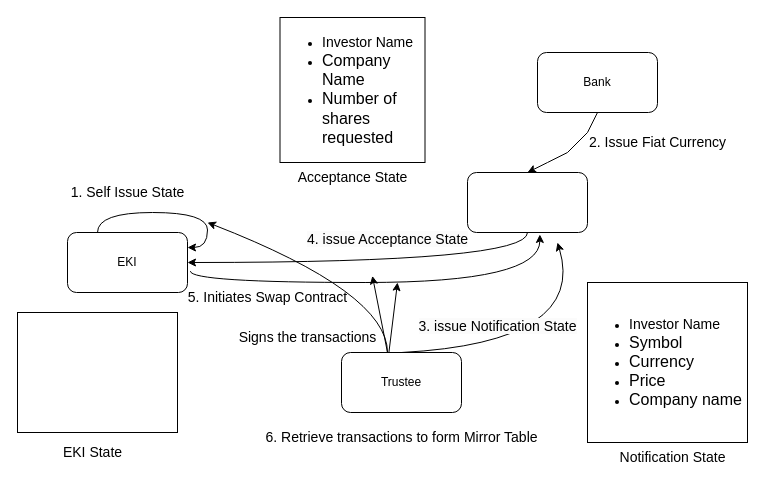
Image size: 765x490. Some labels were removed from this diagram. Here are the shapes that lost their labels. From the top down, the centre of each, then its label:
[527,202]: Investor
[97,372]: Company Name Symbol Total Supply Price for each share
